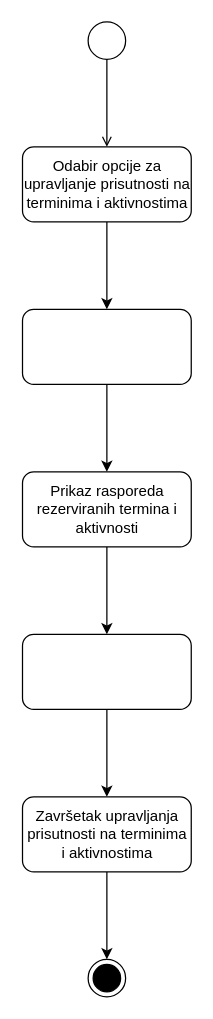
Some shapes in this 213 by 1019 pixel diagram are drawn without their labels. Each missing label, with the box of its shape:
Dohvat rezerviranih termina i aktivnosti iz baze podataka: (21, 308, 191, 384)
Promjena status rezerviranog termina: (21, 633, 191, 709)
